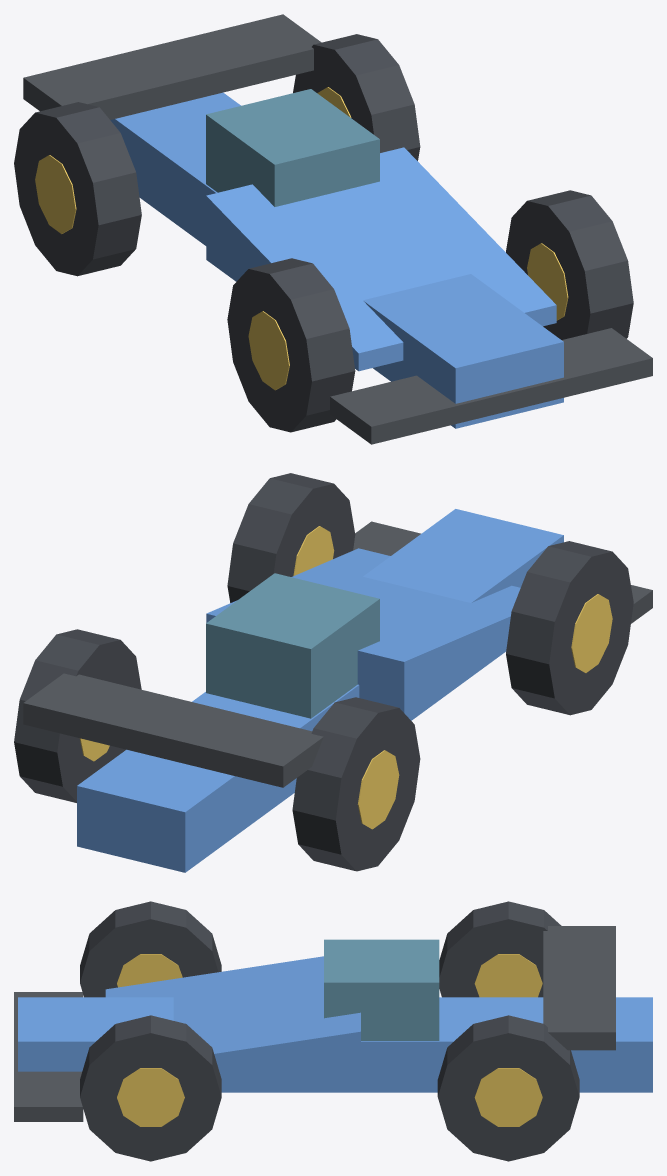
File: player_formula_racer.glb
The picture shows the model from 3 angles, top to bottom: view 1: azimuth 30°, elevation 25°; view 2: azimuth 150°, elevation 25°; view 3: azimuth 270°, elevation 25°; orthographic projection. The views are drawn at different scales.
Visible parts, largest first — view 1: f1_nose_1, f1_spine_0, rear_wing_3, wheel_RL_9, cockpit_4, wheel_FL_5, front_wing_2, wheel_FR_7, wheel_RR_11, rim_FL_6, rim_RL_10, rim_FR_8; view 2: f1_spine_0, cockpit_4, rear_wing_3, f1_nose_1, wheel_FL_5, wheel_RL_9, wheel_RR_11, wheel_FR_7, rim_FL_6, rim_RL_10, front_wing_2, rim_FR_8; view 3: f1_spine_0, f1_nose_1, wheel_FR_7, wheel_RR_11, cockpit_4, rear_wing_3, wheel_FL_5, wheel_RL_9, front_wing_2, rim_RR_12, rim_FR_8, rim_RL_10 (+1 smaller).
Boxes of the visible parts, x1,y1,x2,y2 form: f1_nose_1: (206, 147, 556, 371); f1_spine_0: (110, 92, 563, 428); rear_wing_3: (23, 14, 321, 119); wheel_RL_9: (14, 102, 141, 276); cockpit_4: (206, 89, 379, 206); wheel_FL_5: (227, 258, 355, 432); front_wing_2: (330, 328, 652, 444); wheel_FR_7: (506, 190, 633, 339); wheel_RR_11: (293, 34, 420, 160); rim_FL_6: (248, 311, 289, 390); rim_RL_10: (35, 155, 76, 233); rim_FR_8: (527, 243, 568, 320); f1_spine_0: (77, 509, 563, 872); cockpit_4: (206, 573, 379, 718); rear_wing_3: (23, 673, 323, 787); f1_nose_1: (206, 548, 520, 720); wheel_FL_5: (506, 541, 633, 715); wheel_RL_9: (292, 697, 420, 871); wheel_RR_11: (14, 629, 141, 802); wheel_FR_7: (227, 473, 355, 602); rim_FL_6: (571, 594, 612, 672); rim_RL_10: (357, 750, 399, 829); front_wing_2: (353, 521, 652, 623); rim_FR_8: (293, 526, 334, 575); f1_spine_0: (18, 997, 652, 1092); f1_nose_1: (105, 956, 360, 1085); wheel_FR_7: (80, 1015, 221, 1161); wheel_RR_11: (437, 1015, 579, 1161); cockpit_4: (324, 939, 439, 1040); rear_wing_3: (543, 926, 615, 1050); wheel_FL_5: (80, 901, 221, 997); wheel_RL_9: (439, 901, 561, 997); front_wing_2: (14, 992, 83, 1121); rim_RR_12: (474, 1068, 542, 1126); rim_FR_8: (117, 1068, 184, 1126); rim_RL_10: (474, 954, 542, 997).
Bounding box in the file's own units: 1.9 × 0.9 × 3.88.
